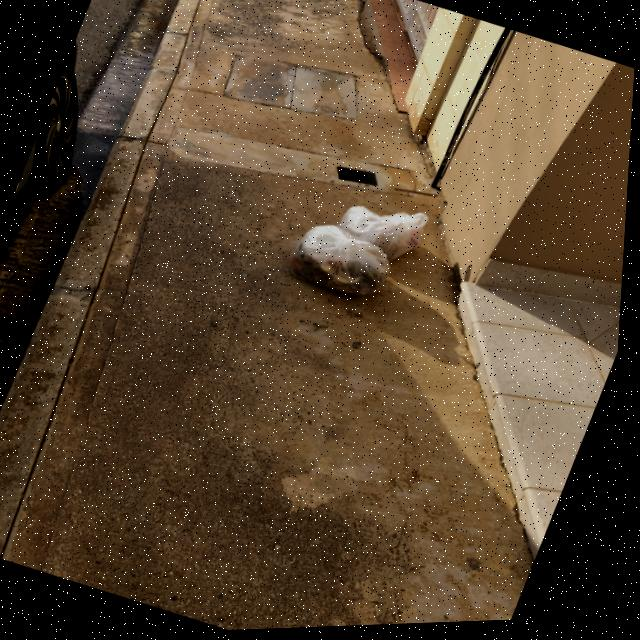Organic Waste -White Bag-: (271, 215, 407, 322), (335, 193, 435, 273)
